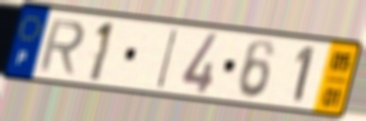1: (88, 20, 117, 83), (292, 45, 316, 106)
4: (179, 30, 221, 98)
6: (236, 38, 277, 102)
I: (154, 26, 182, 91)
R: (36, 17, 88, 77)
